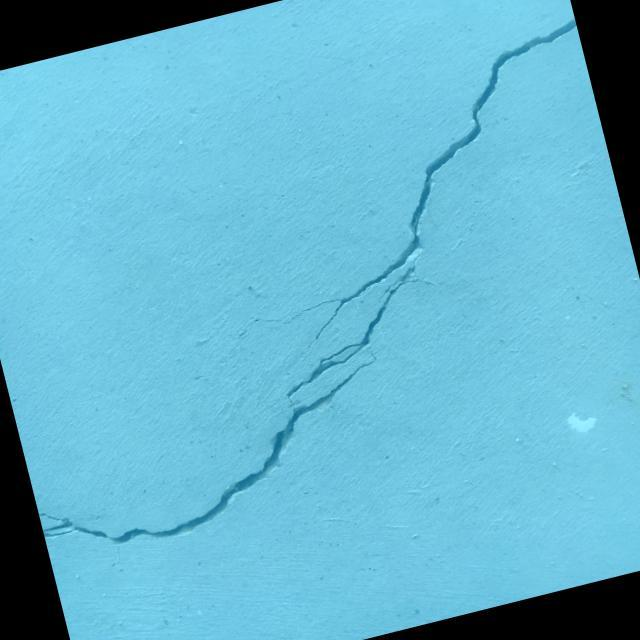crack: (182, 18, 636, 365), (0, 250, 485, 567)
